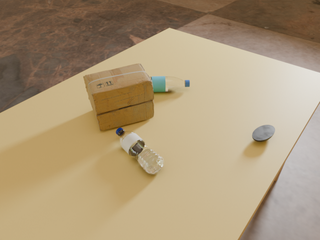bottle: (116, 128, 164, 175), (150, 76, 190, 92)
box: (83, 64, 154, 131)
mouse: (252, 125, 275, 142)
